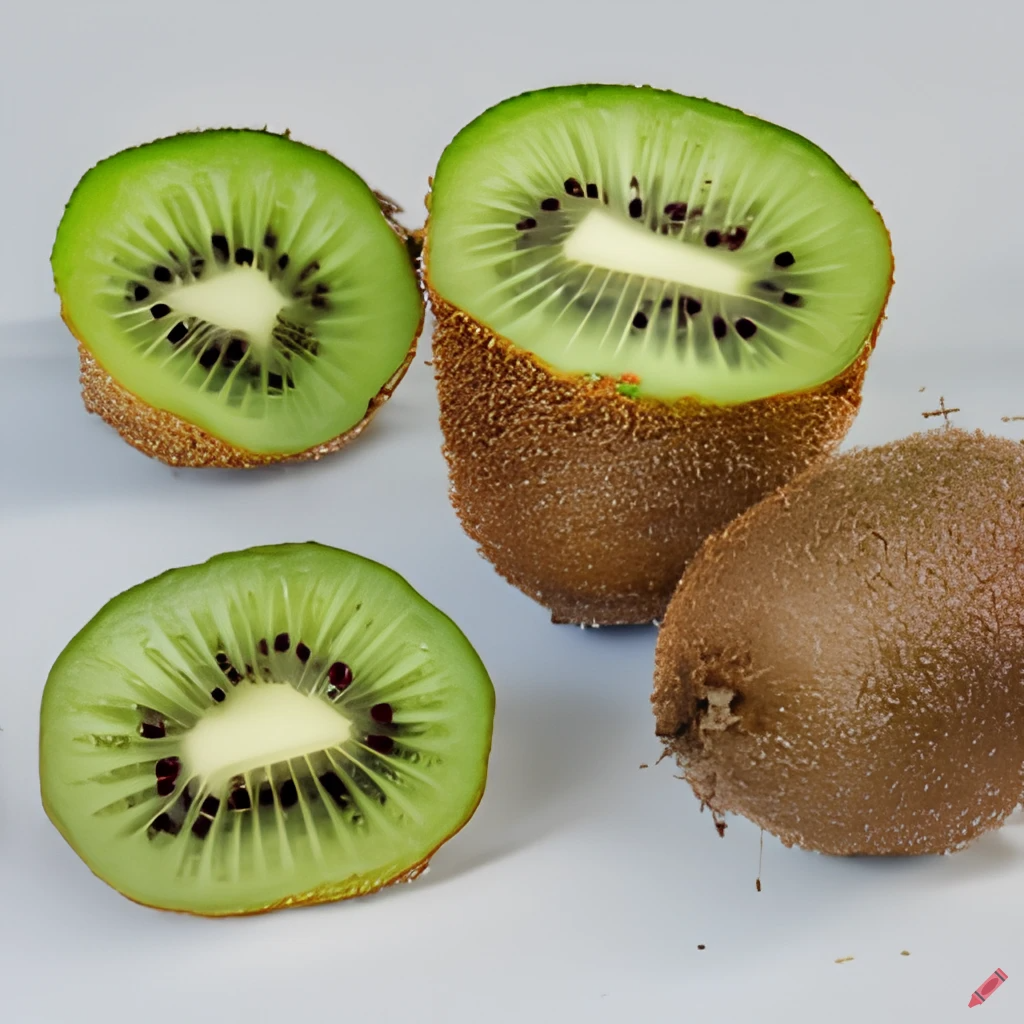Kiwi: (33, 496, 532, 950), (624, 431, 1024, 893)
